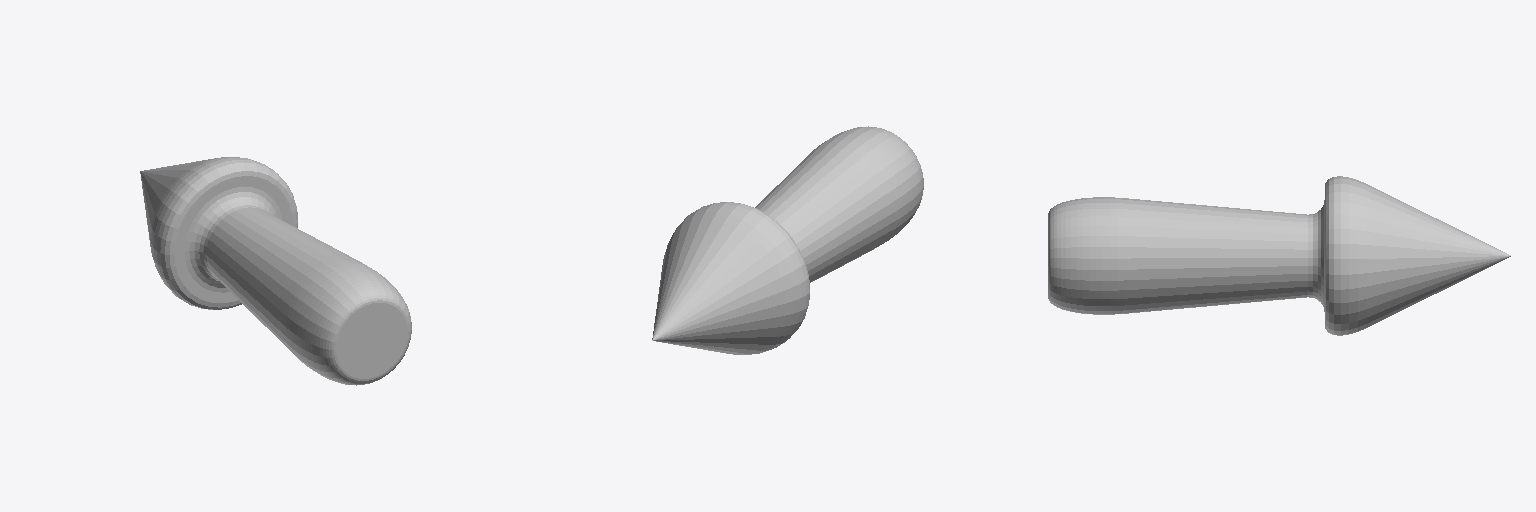
File: Arrow.obj
The picture shows the model from 3 angles: view 1: azimuth 30°, elevation 25°; view 2: azimuth 150°, elevation 25°; view 3: azimuth 270°, elevation 25°; orthographic projection.
Visible parts, largest first — view 1: Cylinder; view 2: Cylinder; view 3: Cylinder.
Part boxes in pixels (x1,y1,x2,y2): Cylinder: (140, 157, 411, 385); Cylinder: (652, 126, 923, 354); Cylinder: (1048, 176, 1510, 335).
Bounding box in the file's own units: 4 × 4 × 11.61.